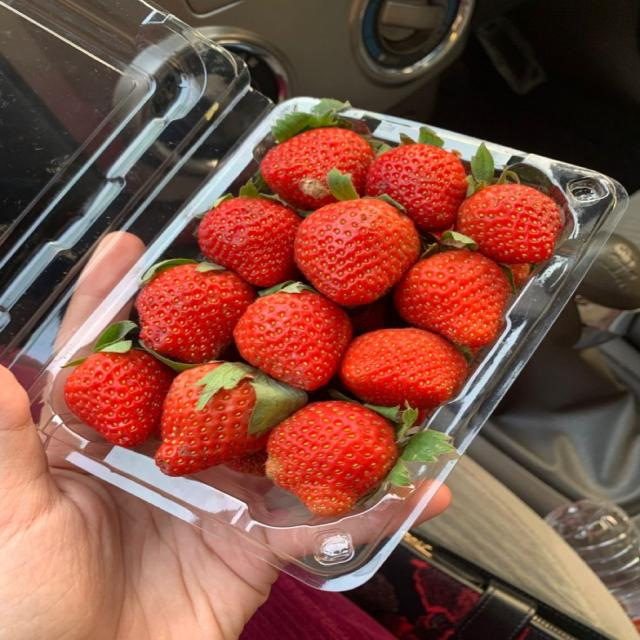strawberry: (155, 363, 306, 475), (267, 401, 397, 516), (64, 323, 174, 446), (295, 199, 419, 305), (234, 283, 352, 390), (136, 260, 254, 363), (394, 250, 511, 347), (198, 183, 300, 287), (340, 328, 466, 409), (260, 127, 373, 210), (367, 141, 467, 231), (455, 184, 562, 263), (225, 449, 266, 476), (504, 263, 532, 289)
